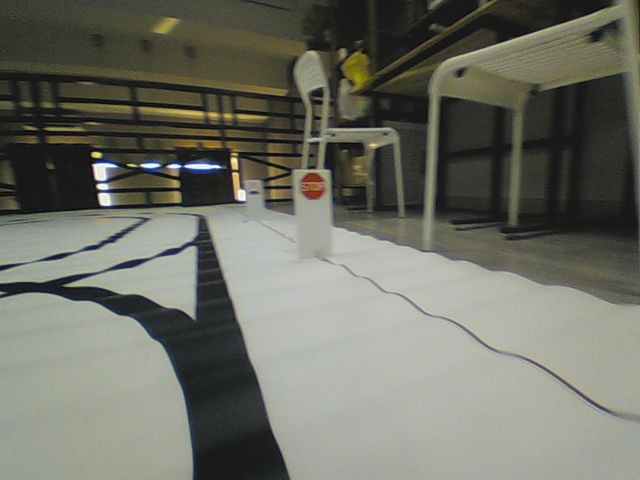Stop: (299, 171, 326, 200)
